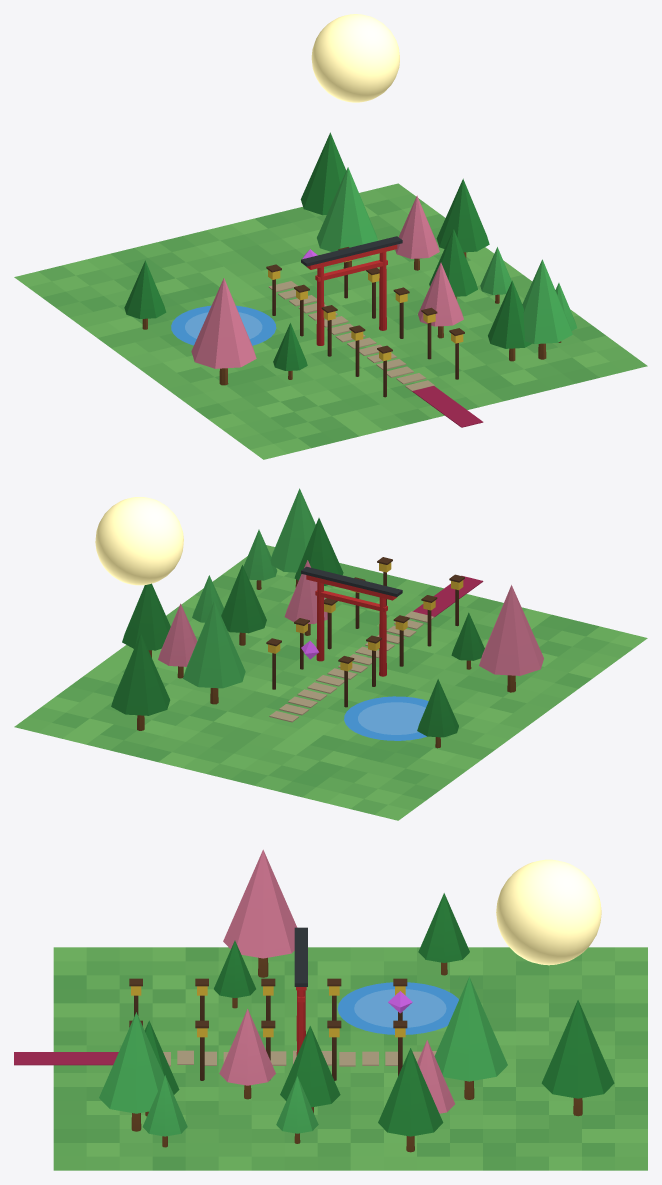
The model's file is sample-scene.glb.
3 renders of one model, top to bottom at view 1: azimuth 30°, elevation 25°; view 2: azimuth 150°, elevation 25°; view 3: azimuth 270°, elevation 25°, orthographic. The views are drawn at different scales.
Visible parts, largest first — view 1: World, Moon; view 2: World, Moon; view 3: World, Moon.
Boxes of the visible parts, box(x1,y1,x2,y2) form: World: box(14, 132, 647, 459); Moon: box(311, 14, 399, 102); World: box(14, 488, 647, 820); Moon: box(95, 497, 183, 585); World: box(14, 849, 647, 1170); Moon: box(496, 859, 601, 965).
Bounding box in the file's own units: 16 × 8.6 × 19.2.
